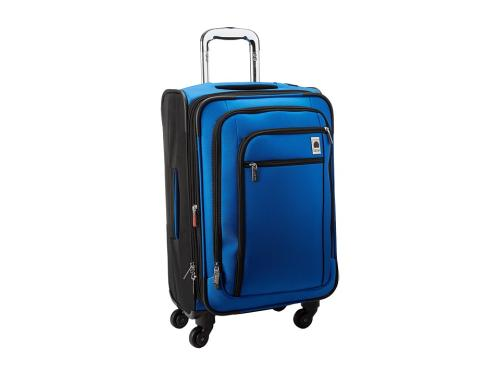luggage: (158, 25, 340, 349)
